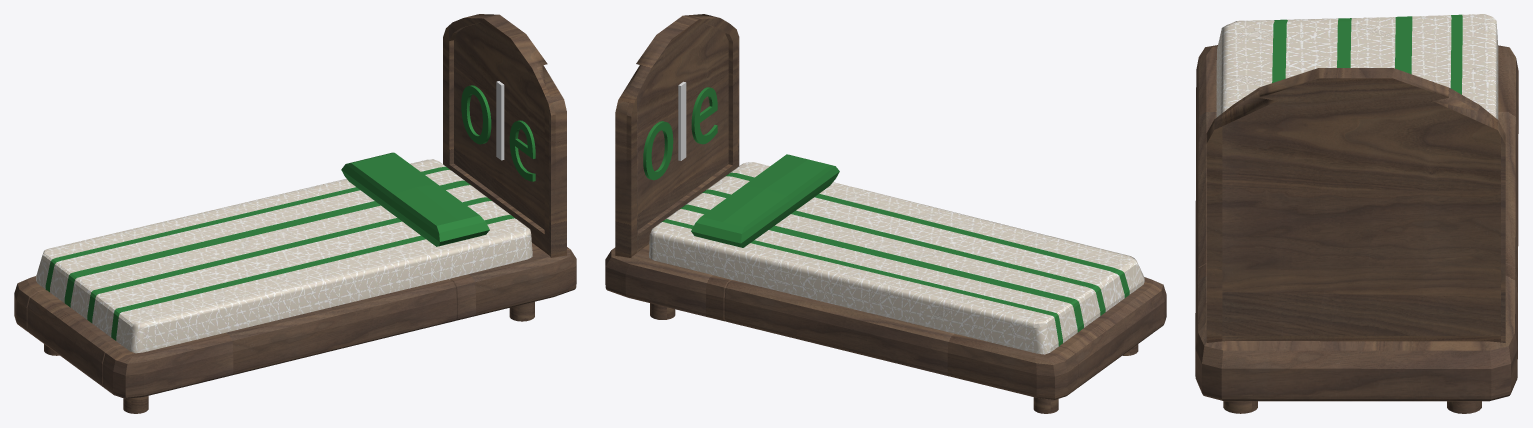
File: CamaWalldaLucia.fbx
3 views of the same model, side by side, from view 1: azimuth 30°, elevation 25°; view 2: azimuth 150°, elevation 25°; view 3: azimuth 270°, elevation 25° (orthographic). The views are drawn at different scales.
Parts seen in each view (by area): view 1: Colchón, Base, Cabecero, Betis, Almohada, ole; view 2: Colchón, Base, Cabecero, Betis, Almohada, ole; view 3: Cabecero, Base, Colchón, Betis.
Boxes of the visible parts, x1,y1,x2,y2 form: Colchón: [36, 159, 532, 353]; Base: [14, 243, 576, 413]; Cabecero: [443, 14, 566, 257]; Betis: [45, 166, 515, 340]; Almohada: [341, 152, 489, 246]; ole: [461, 81, 535, 181]; Colchón: [649, 162, 1144, 354]; Base: [605, 244, 1166, 413]; Cabecero: [615, 14, 739, 257]; Betis: [661, 172, 1129, 346]; Almohada: [691, 154, 839, 247]; ole: [643, 81, 717, 180]; Cabecero: [1206, 68, 1505, 342]; Base: [1195, 45, 1518, 413]; Colchón: [1216, 14, 1498, 119]; Betis: [1272, 14, 1462, 94].
Size of the model in its own units: 2.94 by 1.54 by 1.29.
Materials: 4 (2 with a texture image).
